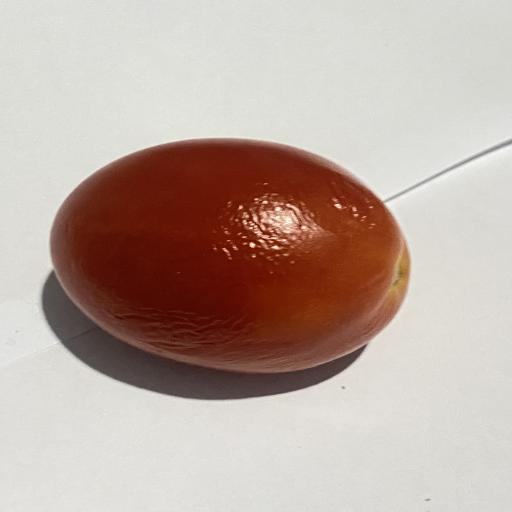spoiled: (51, 139, 410, 373)
